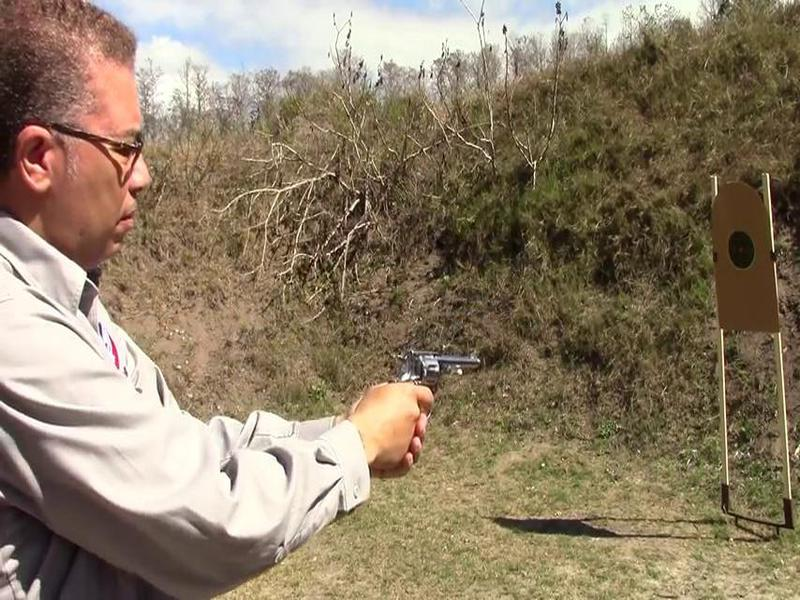Revolver: (381, 331, 488, 419)
